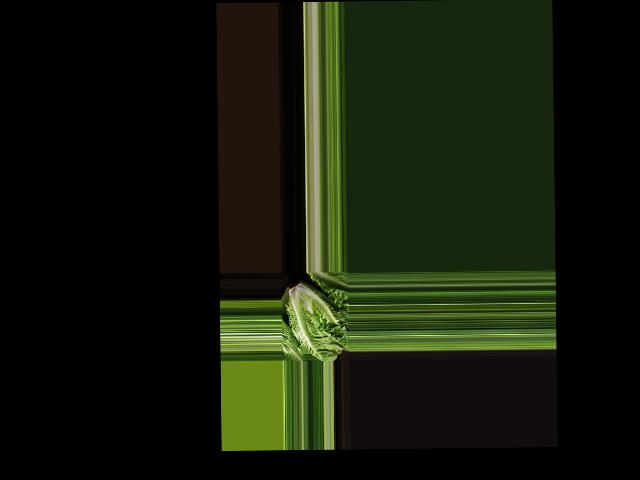lettuce: (280, 276, 344, 360)
